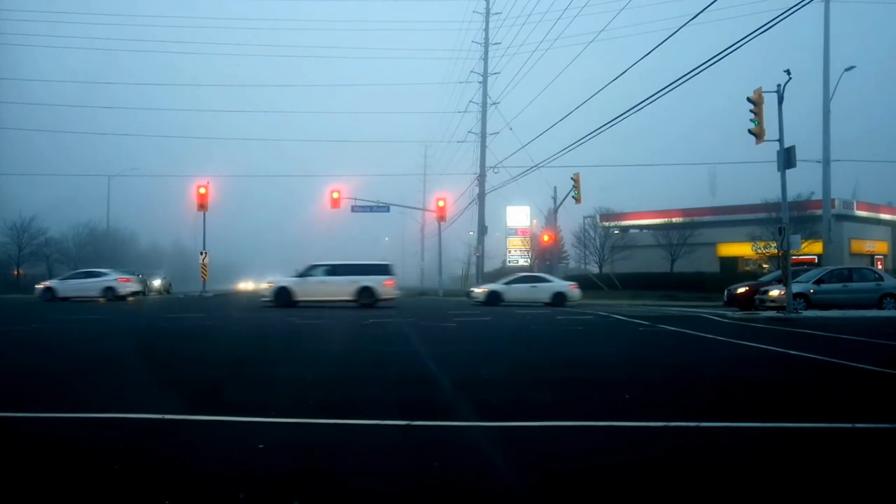car: (753, 263, 896, 315), (720, 262, 857, 311), (267, 261, 402, 307), (468, 270, 586, 309), (31, 268, 144, 306), (133, 268, 172, 296)
